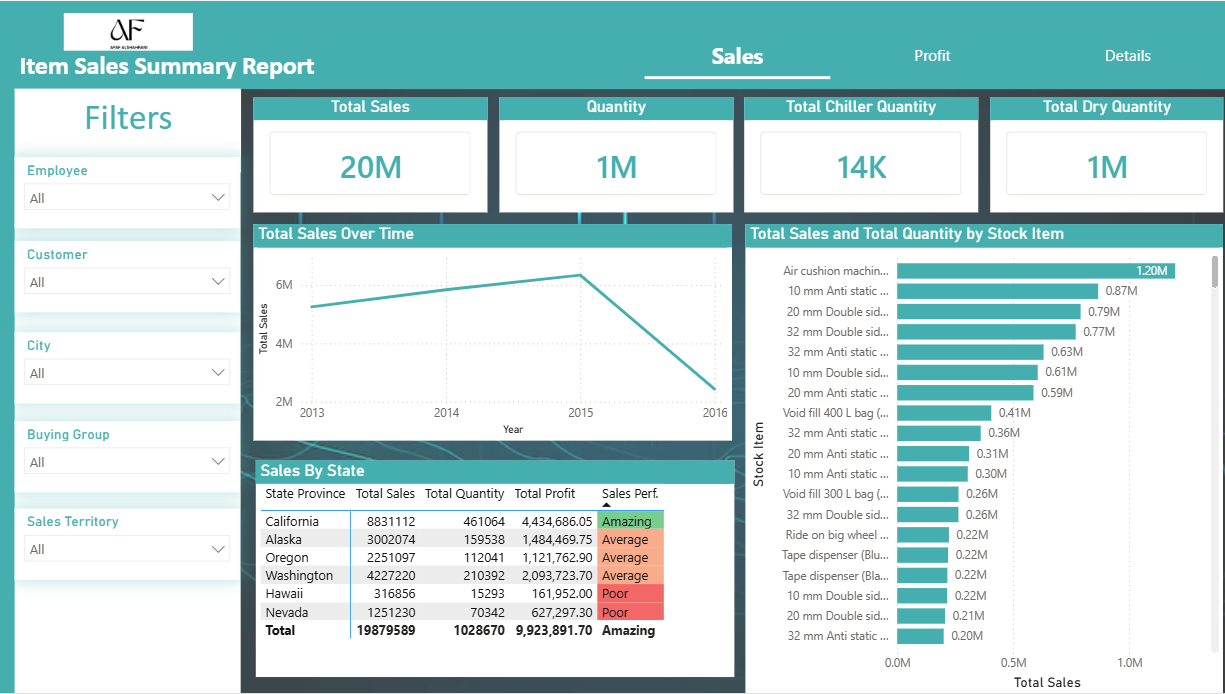

The dashboard page shown, as its layout file describes it:
{"tool":"powerbi","page":{"name":"Sales","canvas":[1280,720],"ordinal":0},"visuals":[{"type":"shape","box":[0,0,1280,91.7],"z":0},{"type":"shape","box":[0,91.7,16.7,628.3],"z":1000},{"type":"shape","box":[16.7,91.7,235,628.3],"z":2000},{"type":"image","box":[67.1,0,134.3,64.3],"z":3000},{"type":"textbox","box":[16.7,46.7,345,53.3],"z":4000},{"type":"cardVisual","title":"Total Sales","fields":{"Data":["FactSale.Total Sales"]},"box":[265,100,243.3,120],"z":5000},{"type":"cardVisual","title":"Total Chiller Quantity","fields":{"Data":["Sum(FactSale.Total Chiller Items)"]},"box":[775,100,243.3,120],"z":6000},{"type":"cardVisual","title":"Quantity","fields":{"Data":["Sum(FactSale.Quantity)"]},"box":[520,100,243.3,120],"z":7000},{"type":"cardVisual","title":"Total Dry Quantity","fields":{"Data":["Sum(FactSale.Total Dry Items)"]},"box":[1030,100,243.3,120],"z":8000},{"type":"textbox","box":[18,92,234,86],"z":9000},{"type":"lineChart","title":"Total Sales Over Time","fields":{"Y":["Sum(FactSale.Total Excluding Tax)"],"Category":["DimDate.Date.Variation.Date Hierarchy.Year","DimDate.Date.Variation.Date Hierarchy.Quarter","DimDate.Date.Variation.Date Hierarchy.Month","DimDate.Date.Variation.Date Hierarchy.Day"]},"box":[265,232.5,497.5,225],"z":10000},{"type":"barChart","fields":{"Y":["Sum(FactSale.Total Excluding Tax)"],"Category":["DimStockItem.Stock Item"]},"box":[775.7,231.4,497.1,488.6],"z":11000},{"type":"pivotTable","title":"Sales By State","fields":{"Values":["Sum(FactSale.Total Excluding Tax)","Sum(FactSale.Quantity)","Sum(FactSale.Profit)","FactSale.Sales Perf."],"Rows":["DimCity.State Province"]},"box":[267.5,477.5,497.5,225],"z":12000},{"type":"slicer","fields":{"Values":["DimEmployee.Employee"]},"box":[16,162,234,74],"z":13000},{"type":"slicer","fields":{"Values":["DimCustomer.Customer"]},"box":[16,250,234,74],"z":14000},{"type":"slicer","fields":{"Values":["DimCity.City"]},"box":[16,344,234,74],"z":15000},{"type":"slicer","fields":{"Values":["DimCustomer.Buying Group"]},"box":[16,436,234,74],"z":16000},{"type":"slicer","fields":{"Values":["DimCity.Sales Territory"]},"box":[16,528,234,74],"z":17000},{"type":"pageNavigator","box":[671.7,31.7,600,50],"z":18000}]}

Visuals, with their boxes in screenshot pixels (x1, y1, x2, y2), scaled from the page's 1280x720 canvas onto the 1225x694 screenshot:
shape: [x1=0, y1=0, x2=1224, y2=88]
shape: [x1=0, y1=88, x2=16, y2=693]
shape: [x1=16, y1=88, x2=241, y2=693]
image: [x1=64, y1=0, x2=193, y2=62]
textbox: [x1=16, y1=45, x2=346, y2=96]
"Total Sales" cardVisual: [x1=254, y1=96, x2=486, y2=212]
"Total Chiller Quantity" cardVisual: [x1=742, y1=96, x2=975, y2=212]
"Quantity" cardVisual: [x1=498, y1=96, x2=731, y2=212]
"Total Dry Quantity" cardVisual: [x1=986, y1=96, x2=1219, y2=212]
textbox: [x1=17, y1=89, x2=241, y2=172]
"Total Sales Over Time" lineChart: [x1=254, y1=224, x2=730, y2=441]
barChart - Sum(FactSale.Total Excluding Tax) x DimStockItem.Stock Item: [x1=742, y1=223, x2=1218, y2=693]
"Sales By State" pivotTable: [x1=256, y1=460, x2=732, y2=677]
slicer - DimEmployee.Employee: [x1=15, y1=156, x2=239, y2=227]
slicer - DimCustomer.Customer: [x1=15, y1=241, x2=239, y2=312]
slicer - DimCity.City: [x1=15, y1=332, x2=239, y2=403]
slicer - DimCustomer.Buying Group: [x1=15, y1=420, x2=239, y2=492]
slicer - DimCity.Sales Territory: [x1=15, y1=509, x2=239, y2=580]
pageNavigator: [x1=643, y1=31, x2=1217, y2=79]
